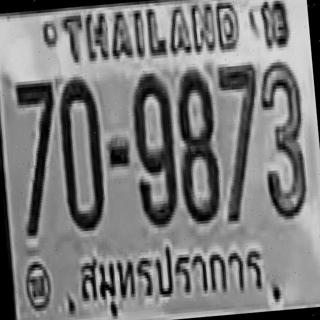N00: (55, 72, 107, 229)
N03: (255, 58, 310, 218)
N07: (214, 61, 268, 221), (13, 76, 65, 236)
N08: (170, 65, 221, 222)
N09: (127, 69, 179, 226)
P57: (72, 229, 271, 319)
